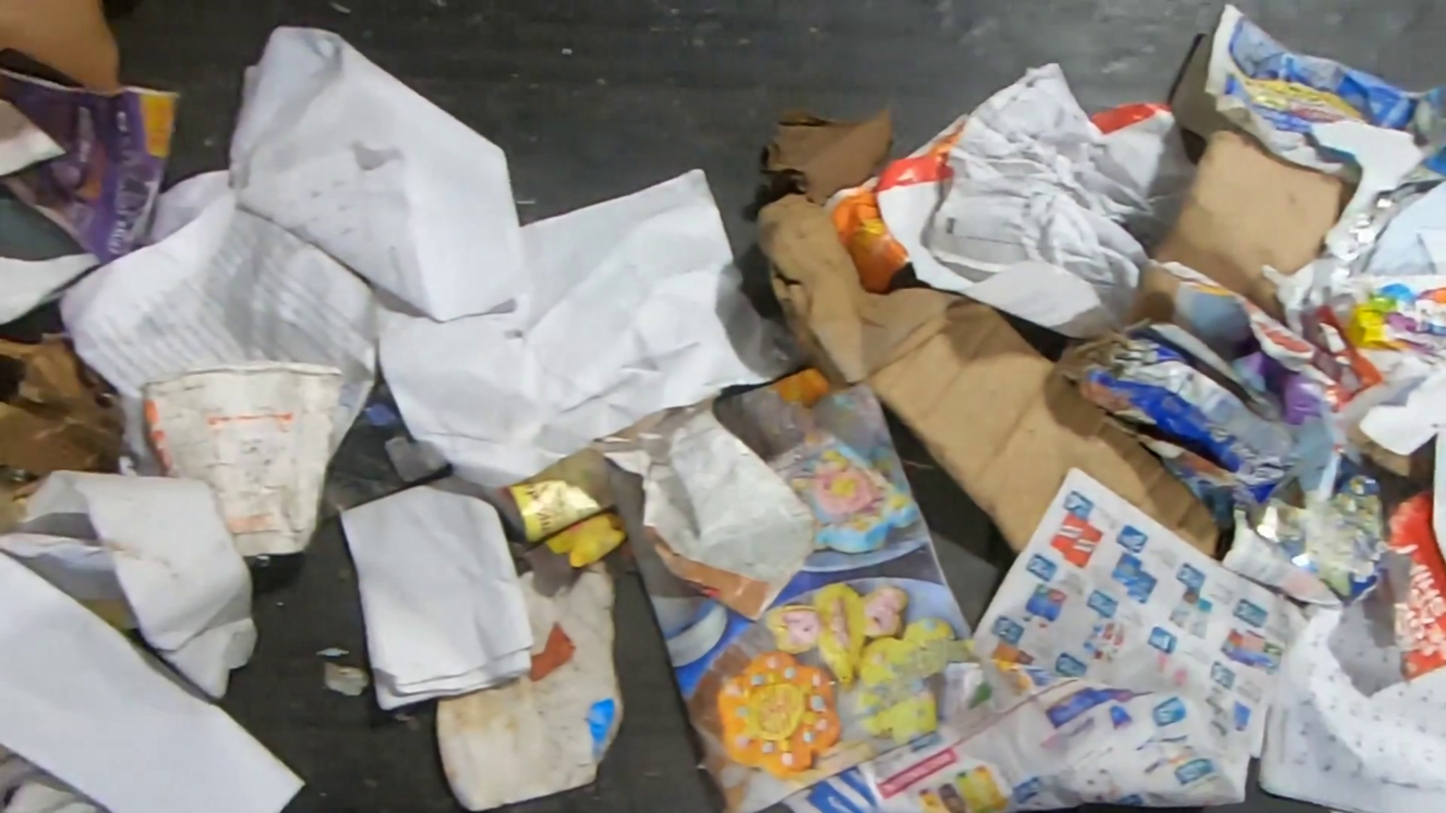cardboard: (756, 192, 1224, 563), (1045, 314, 1307, 532), (139, 359, 348, 558), (1150, 127, 1357, 326), (0, 334, 133, 534)
